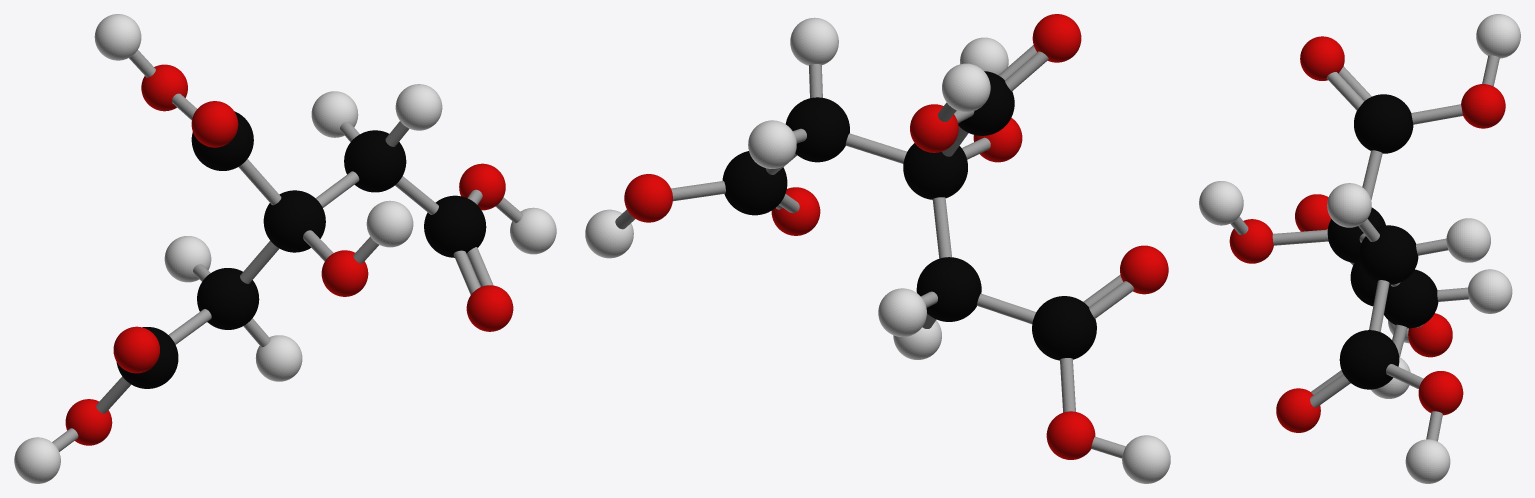
File: SodiumCitrate.glb
The picture shows the model from 3 angles, left to right: view 1: azimuth 30°, elevation 25°; view 2: azimuth 150°, elevation 25°; view 3: azimuth 270°, elevation 25°; orthographic projection. The views are drawn at different scales.
Parts seen in each view (by area): view 1: world; view 2: world; view 3: world.
Boxes of the visible parts, box(x1,y1,x2,y2) form: world: box(14, 14, 556, 483); world: box(585, 14, 1170, 483); world: box(1199, 14, 1520, 483).
Size of the model in its own units: 8.1 by 5.69 by 4.32.
